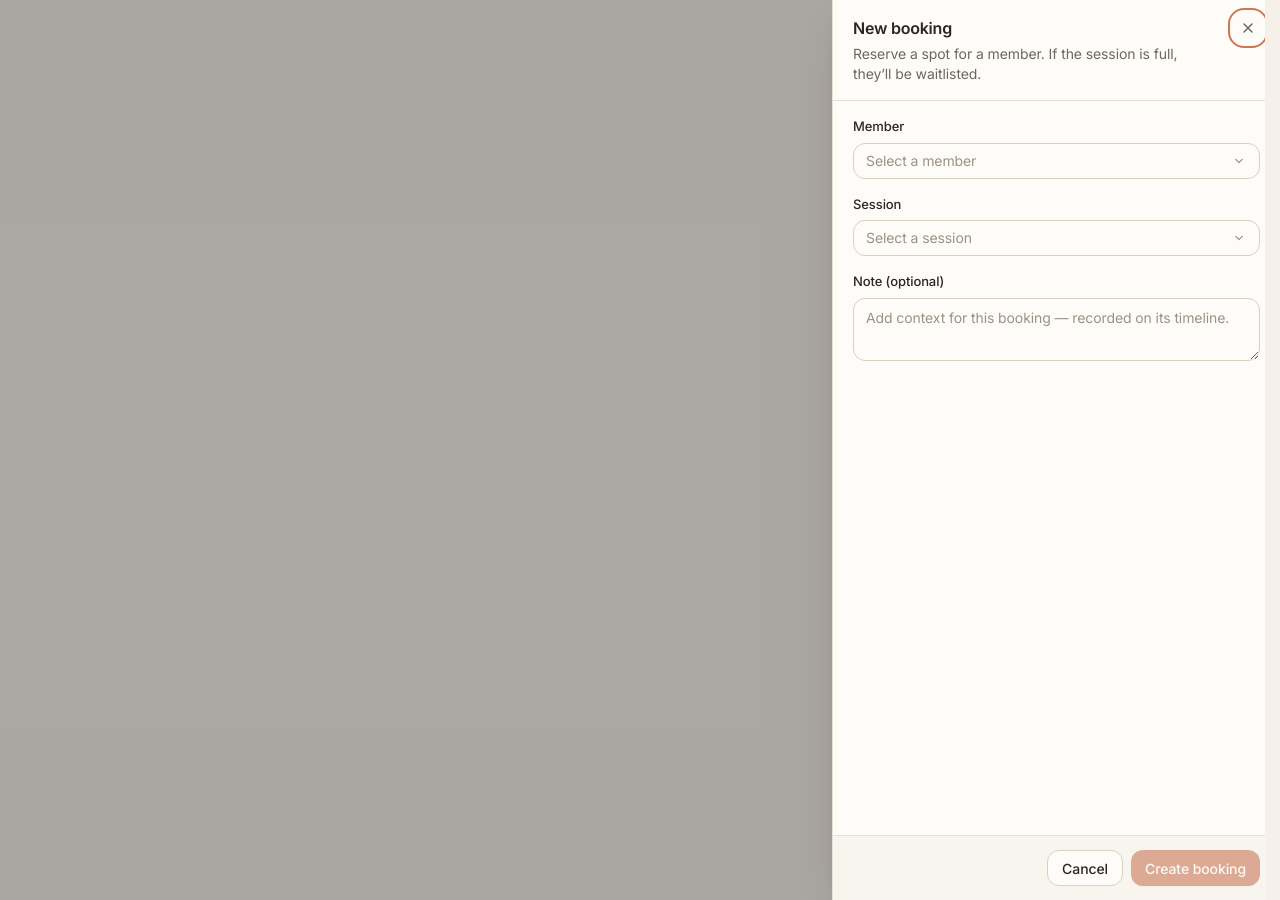
BookingCreateDrawer › books a member into a full session and shows the waitlist outcome
The image size is (1280, 900).
# Pick the member by name.
Click the dropdown labelled "member".
click(921, 160)  # box x1=853 y1=142 x2=1260 y2=178
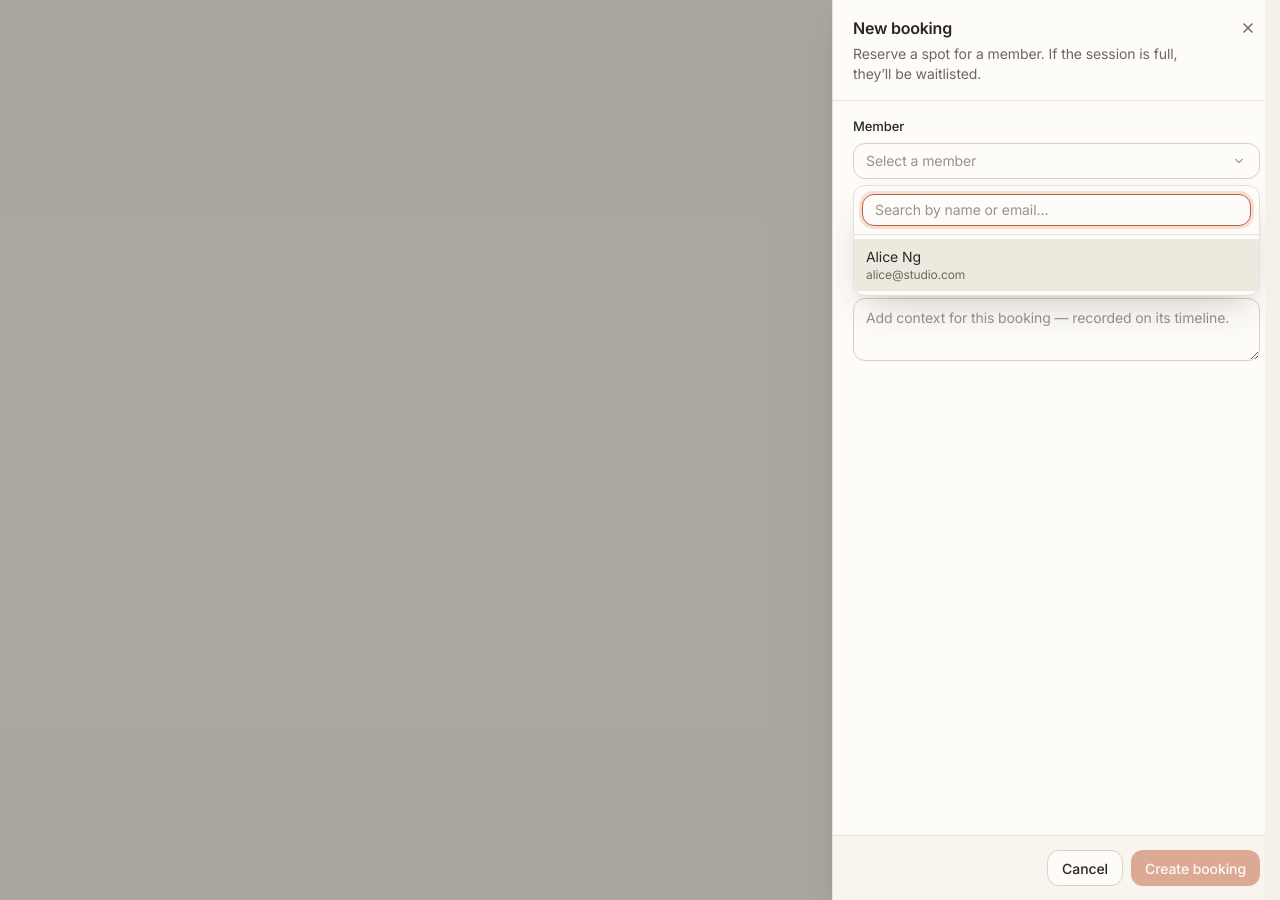
Click the button "Alice Ng alice@studio.com".
click(893, 256)  # box x1=854 y1=238 x2=1259 y2=290
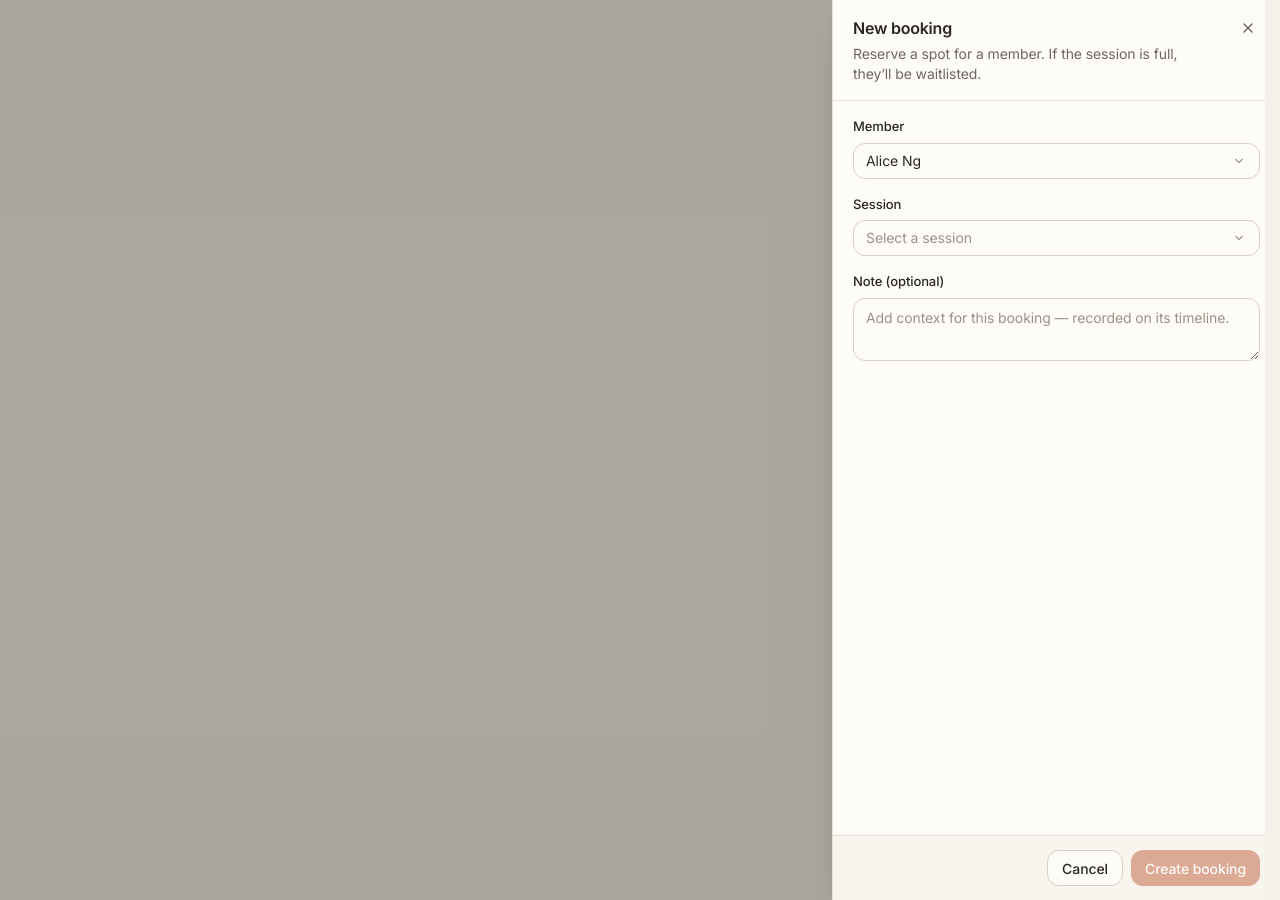
# Pick the (full) session by name.
Click the dropdown labelled "session".
click(919, 238)  # box x1=853 y1=220 x2=1260 y2=256
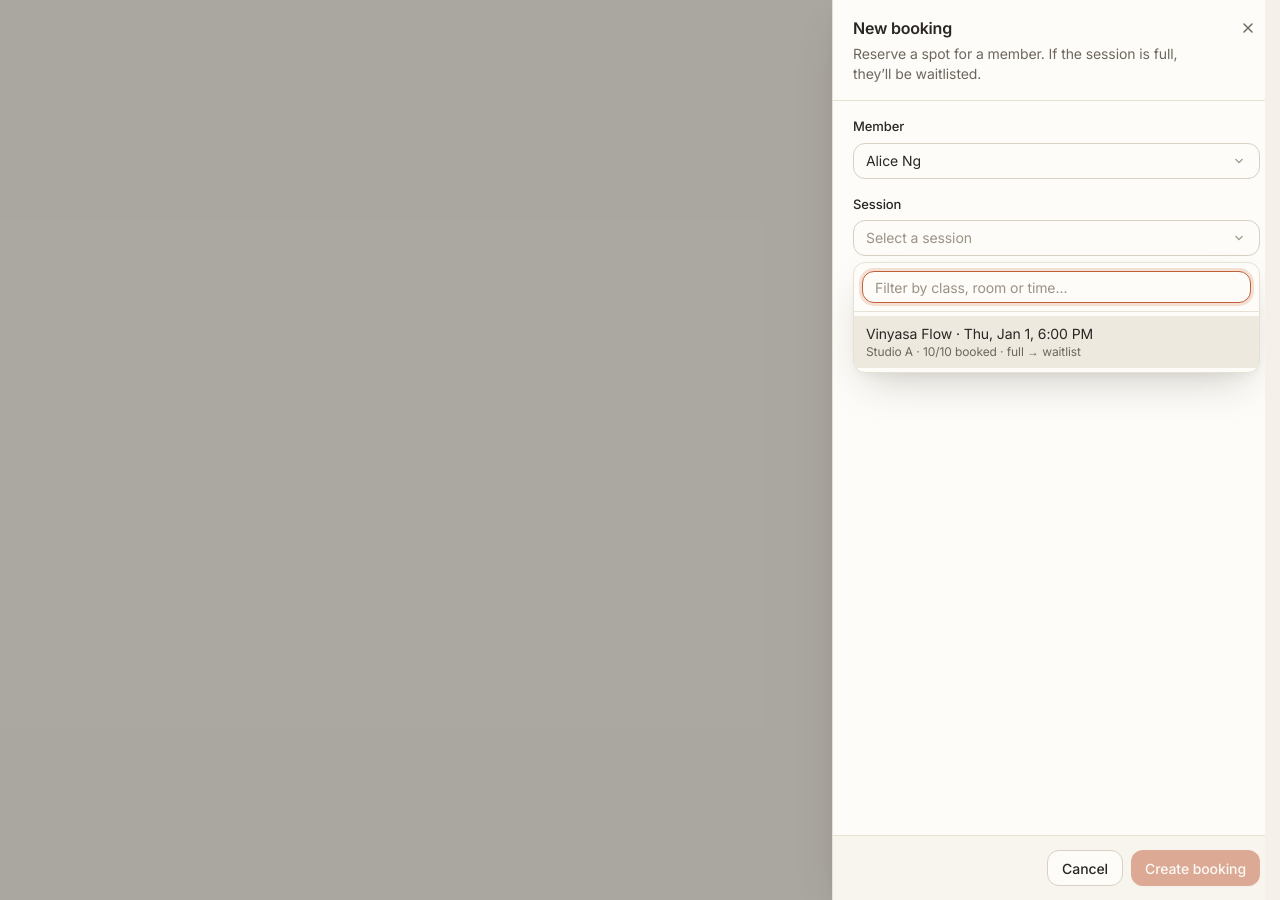
Click the button "Vinyasa Flow".
click(1056, 342)  # box x1=854 y1=316 x2=1259 y2=368
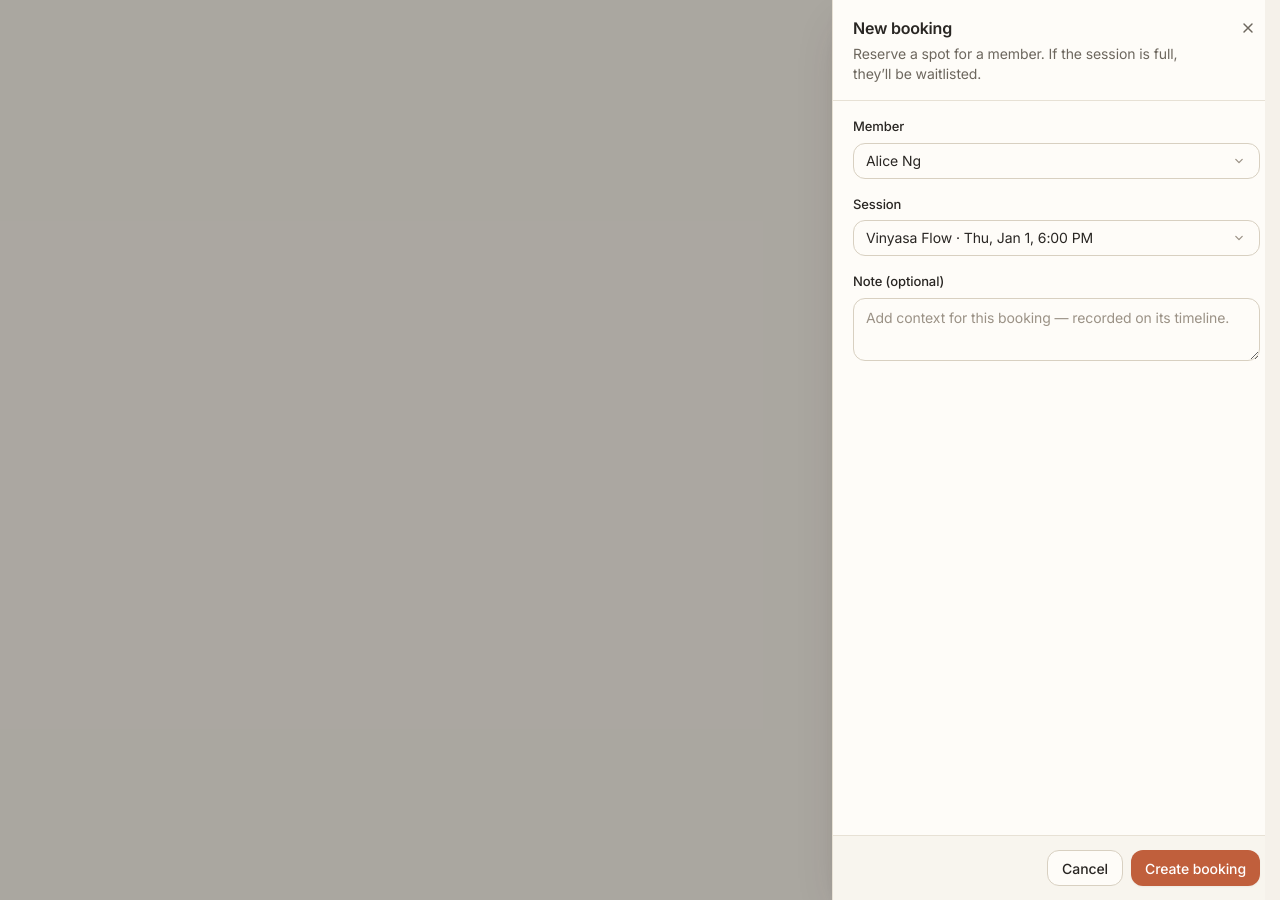
Click the button "Create booking".
click(1196, 868)  # box x1=1131 y1=850 x2=1260 y2=886
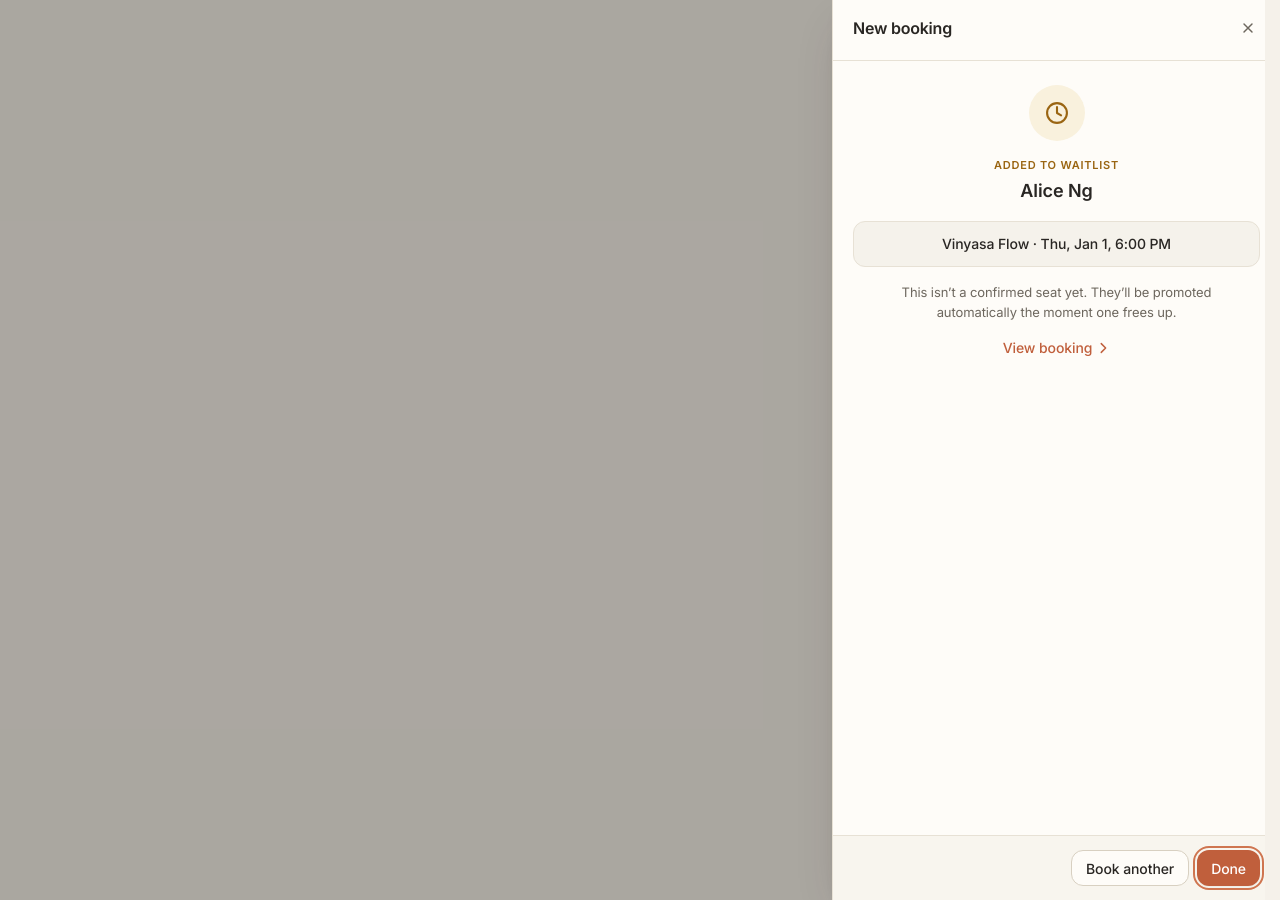
expect the text "Added to waitlist" is shown: met, box x1=994 y1=157 x2=1119 y2=173
expect the text "isn.t a confirmed seat" is shown: met, box x1=902 y1=284 x2=1211 y2=320
